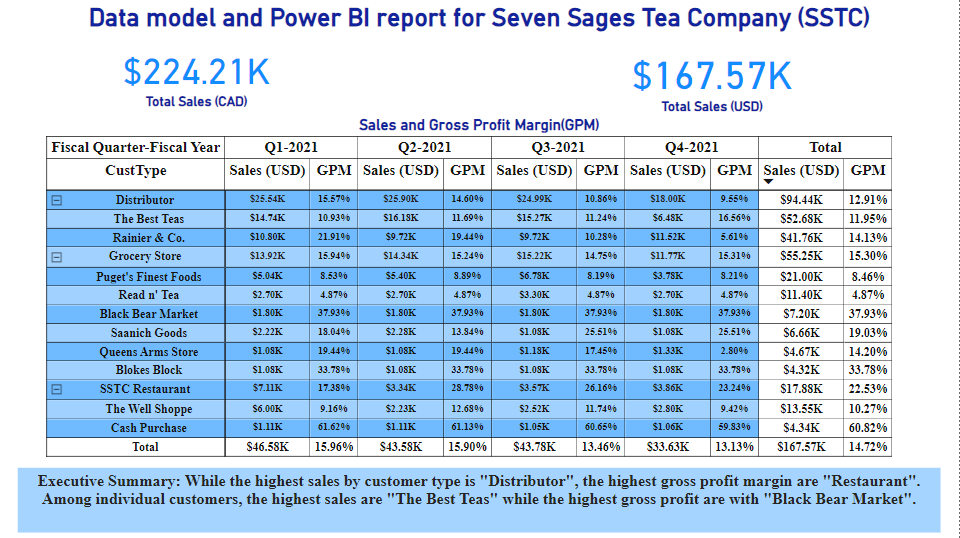

What the dashboard file says about the page in this screenshot:
{"tool":"powerbi","page":{"name":"Sales and GPM","canvas":[1280,720],"ordinal":0},"visuals":[{"type":"pivotTable","title":"Sales and Gross Profit Margin(GPM)","fields":{"Values":["Monthly Sales Logs.Sales (USD)","Monthly Sales Logs.GPM"],"Columns":["Date.Fiscal Quarter-Fiscal Year"],"Rows":["Customer List (as of FY2021).CustType","Customer List (as of FY2021).Customer"]},"box":[58.3,155,1163.3,466.7],"z":0},{"type":"card","fields":{"Values":["Monthly Sales Logs.Sales (USD)"]},"box":[828.3,56.7,245,98.3],"z":1000},{"type":"card","fields":{"Values":["Monthly Sales Logs.Sales (CAD)"]},"box":[148.3,48.3,230,106.7],"z":2000},{"type":"textbox","box":[25,625,1230,86.7],"z":3000},{"type":"textbox","box":[0,0,1280,56.7],"z":4000}]}

Visuals, with their boxes in screenshot pixels (x1, y1, x2, y2), scaled from the page's 1280x720 canvas onto the 960x538 screenshot:
"Sales and Gross Profit Margin(GPM)" pivotTable: BBox(44, 116, 916, 465)
card - Monthly Sales Logs.Sales (USD): BBox(621, 42, 805, 116)
card - Monthly Sales Logs.Sales (CAD): BBox(111, 36, 284, 116)
textbox: BBox(19, 467, 941, 532)
textbox: BBox(0, 0, 959, 42)
